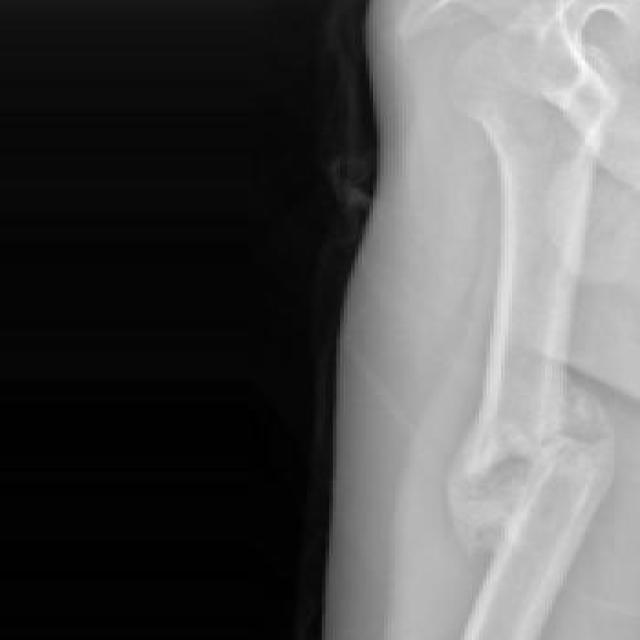Fracture: (448, 426, 622, 485)
